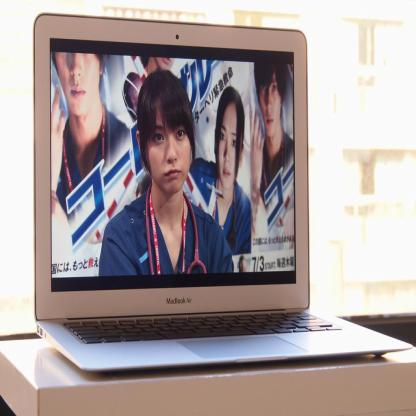board: (34, 19, 412, 371)
